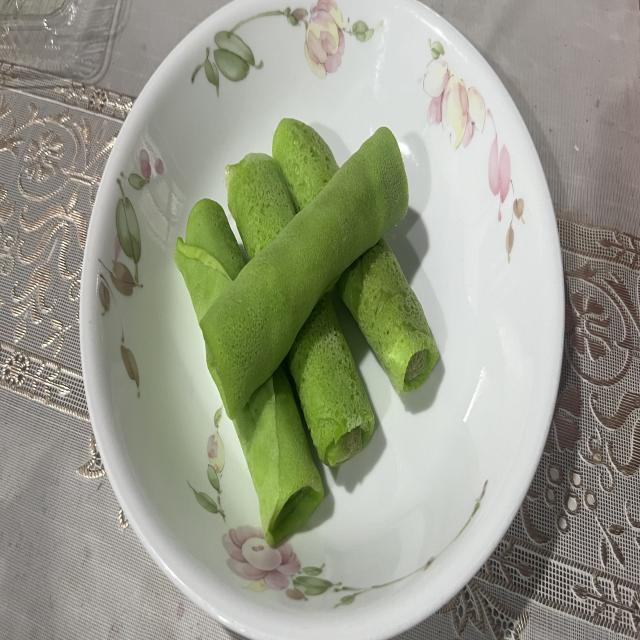Kuih-Ketayap: (200, 127, 409, 418), (338, 238, 439, 393), (289, 293, 374, 467), (234, 371, 321, 536), (174, 200, 245, 322), (225, 153, 295, 258), (272, 118, 338, 211)
